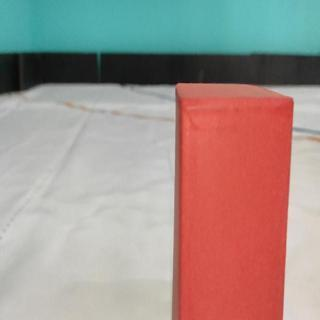redbox: (179, 84, 284, 320)
